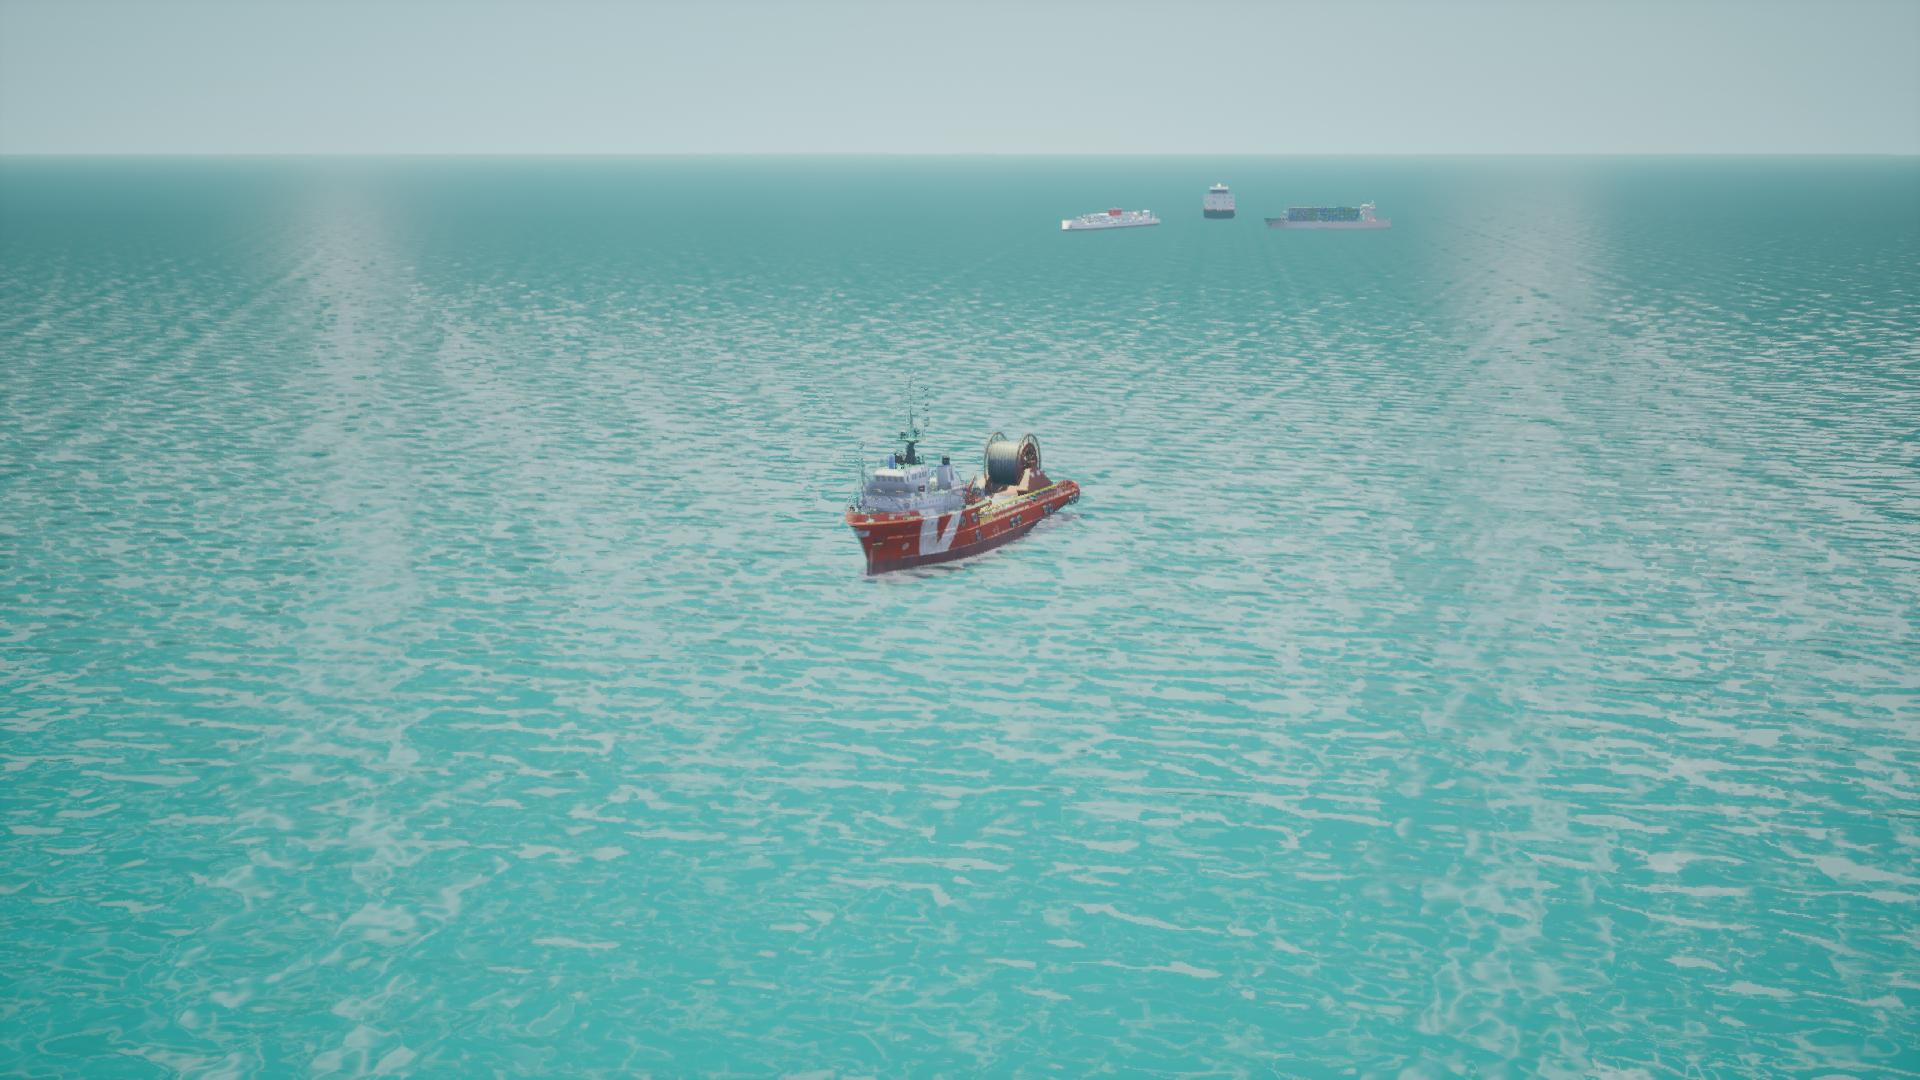Tug Boat: (841, 431, 1079, 579)
